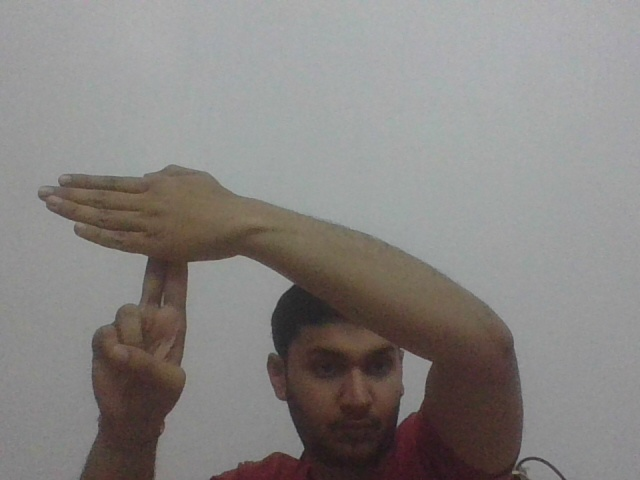N: (34, 161, 218, 312)
